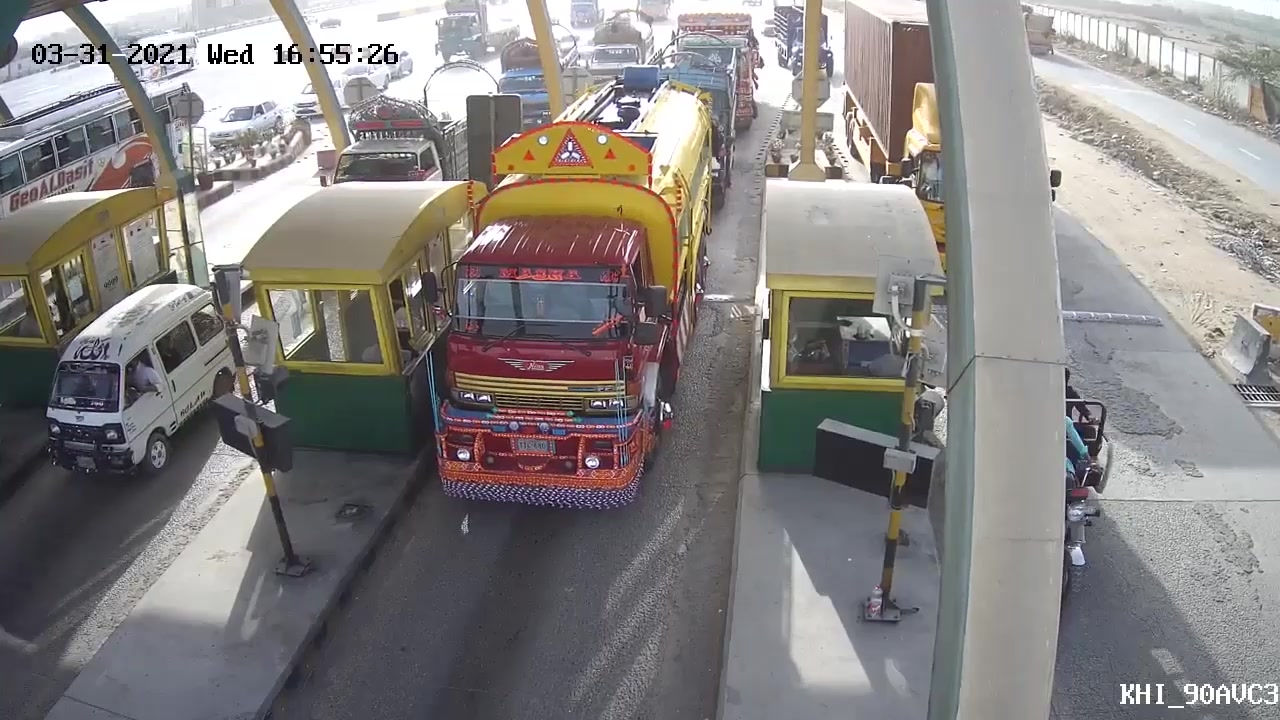F6: (421, 85, 724, 527)
